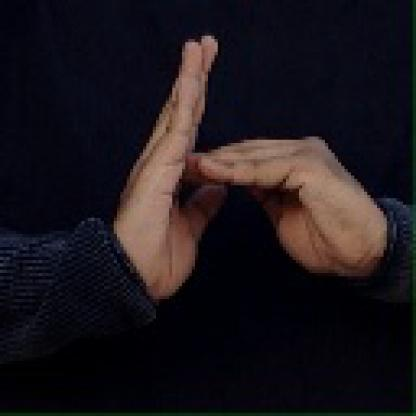Z: (115, 32, 342, 294)
